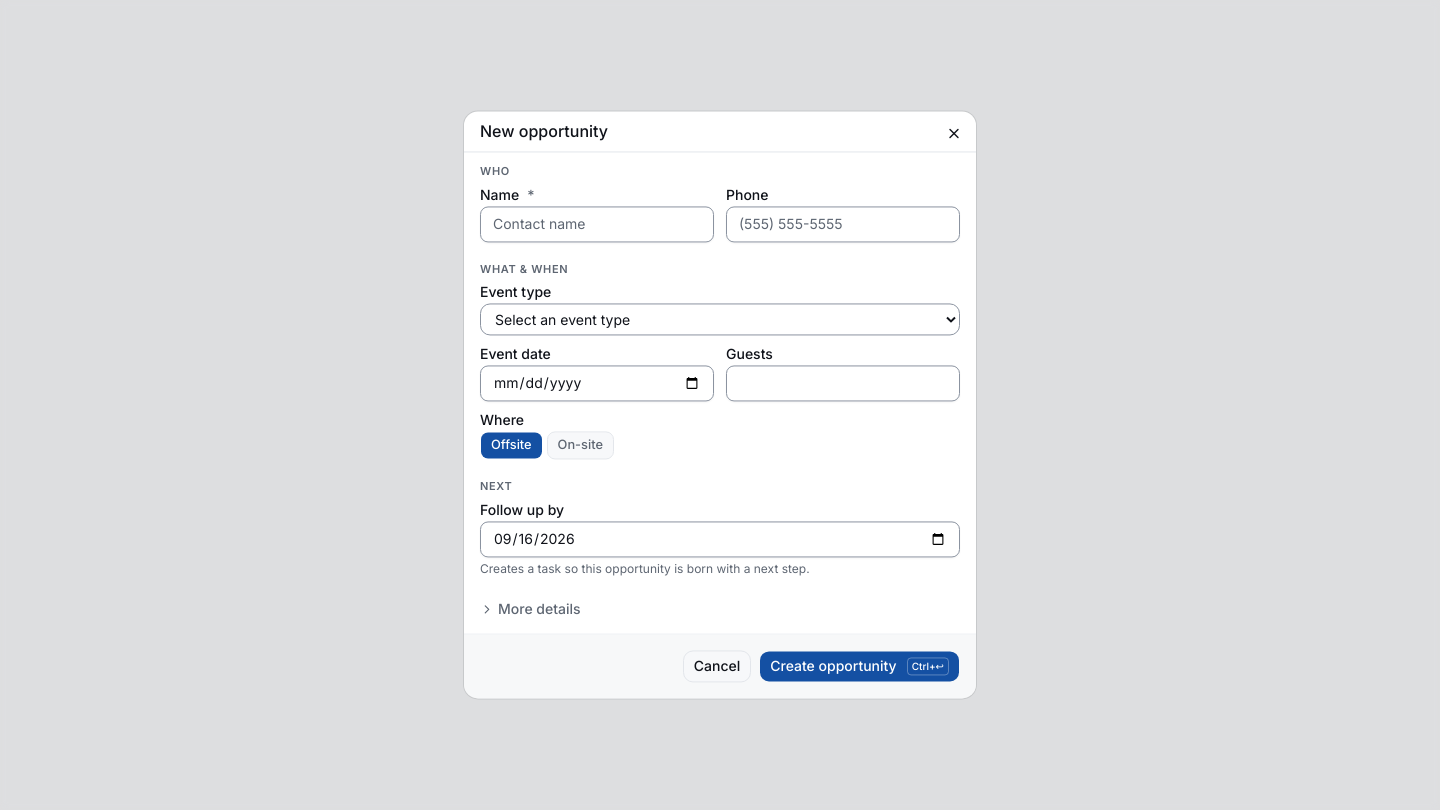
NewEventTypePopover (inline create-in-flow) › policy toggles › prefills needs-venue pressed when Where is currently On-site
The image size is (1440, 810).
Click the button "On-site". click: (580, 446)
box: [547,432,614,460]
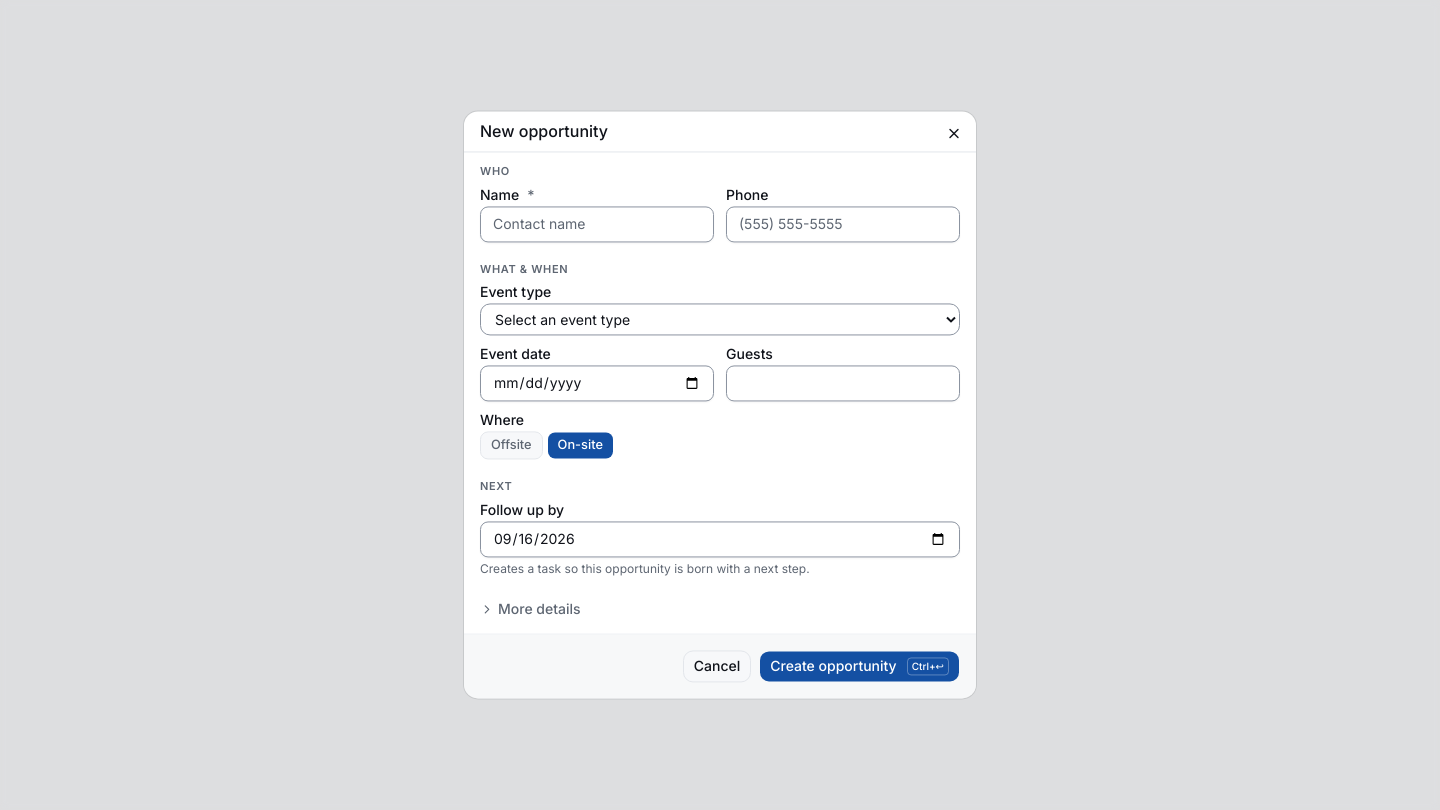
Select "+ New event type…" in the dropdown labelled "Event type". click: (720, 320)
box: [480,304,960,336]
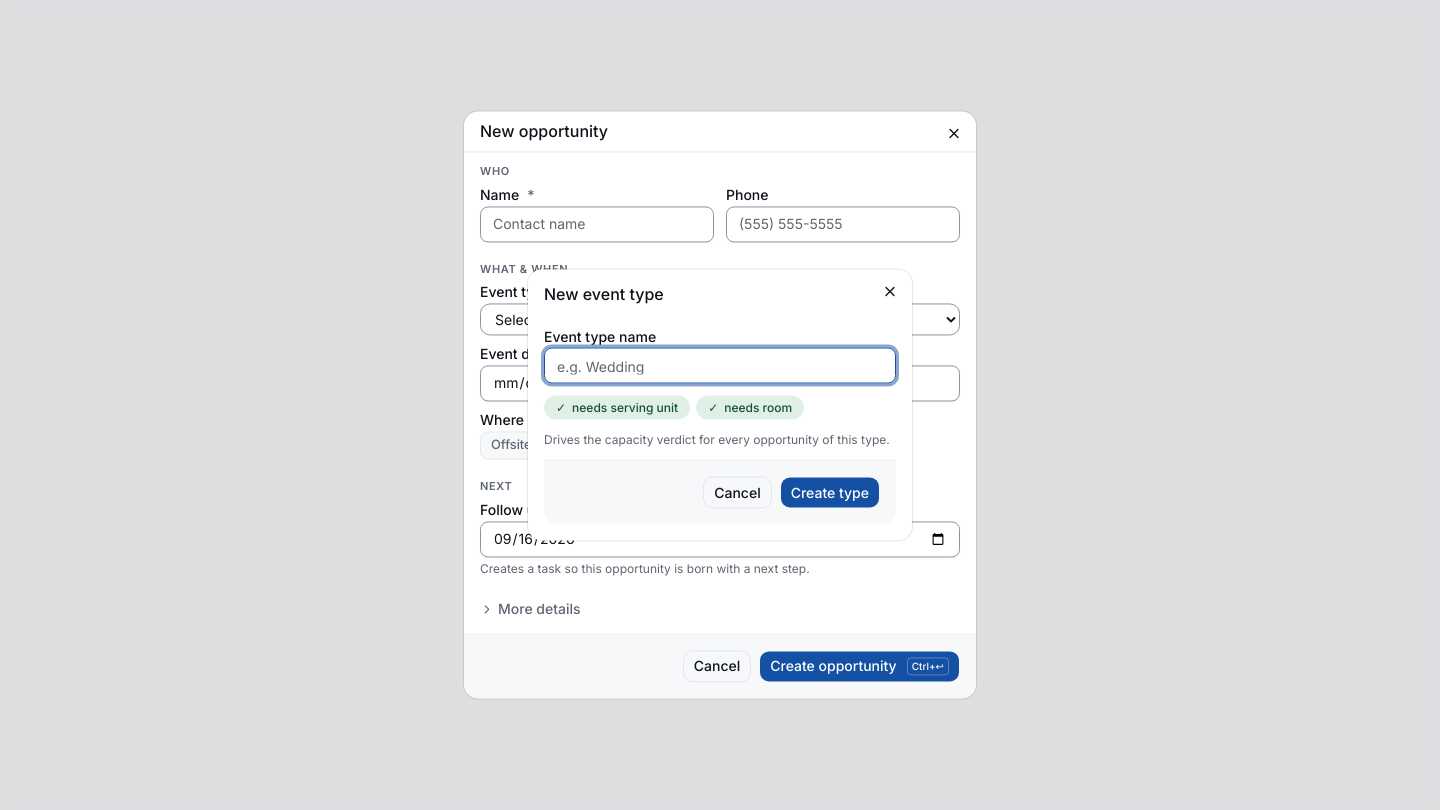
Result: the button "✓ needs room" is shown at [696,396,804,420]
